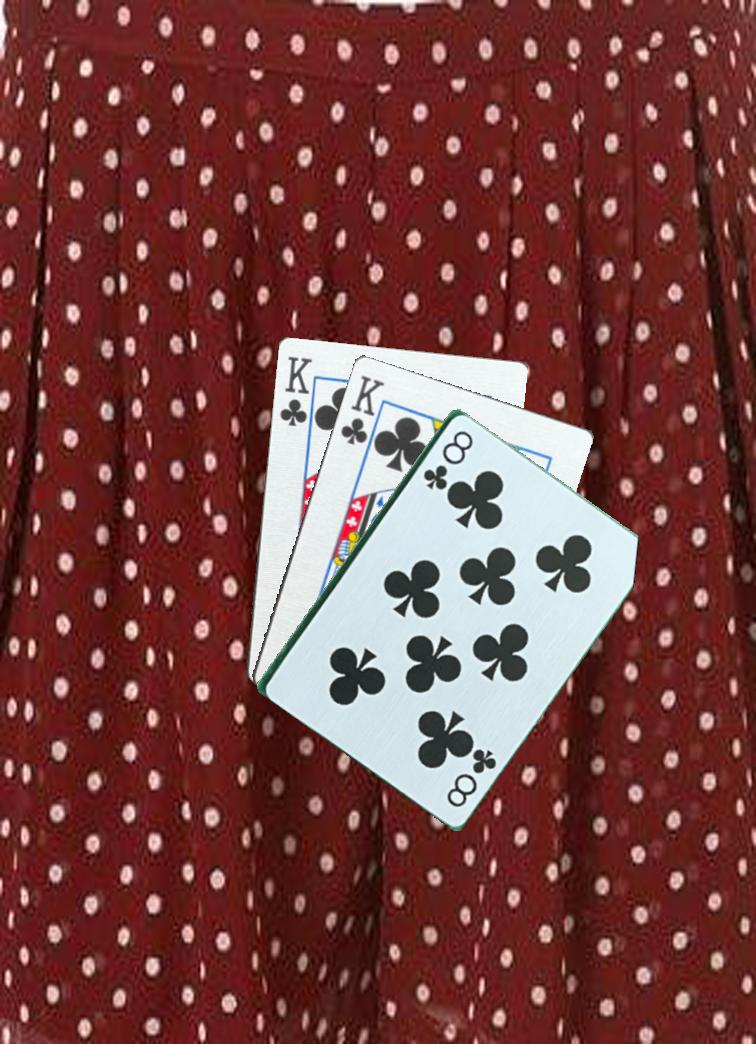8c: (442, 741, 500, 810), (418, 426, 476, 492)
kc: (336, 368, 387, 448), (275, 351, 314, 429)
